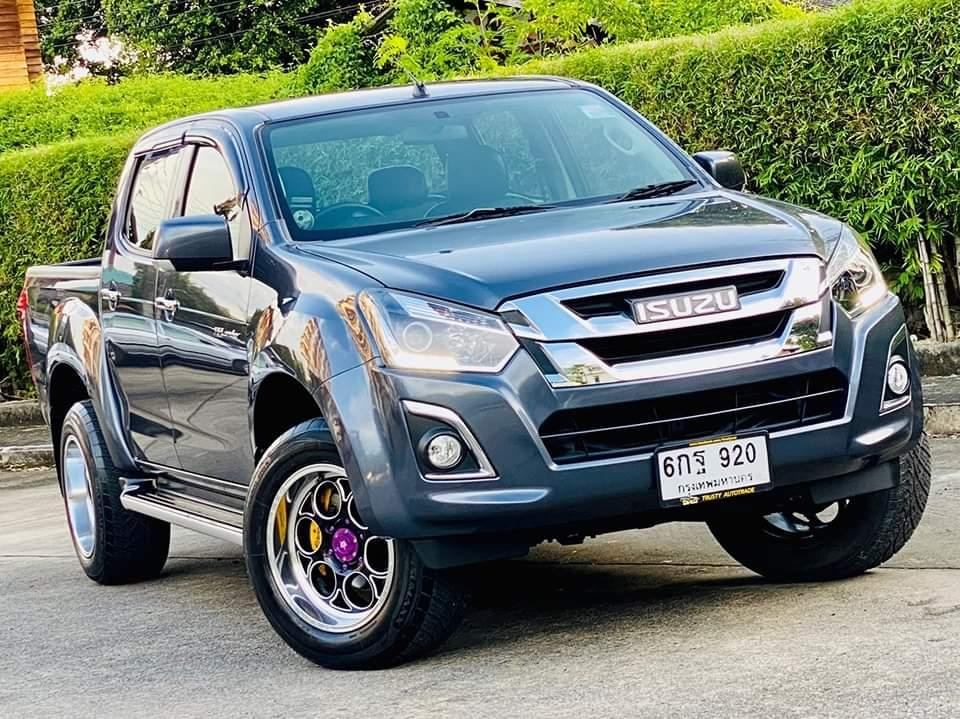license-plate: (651, 428, 775, 514)
